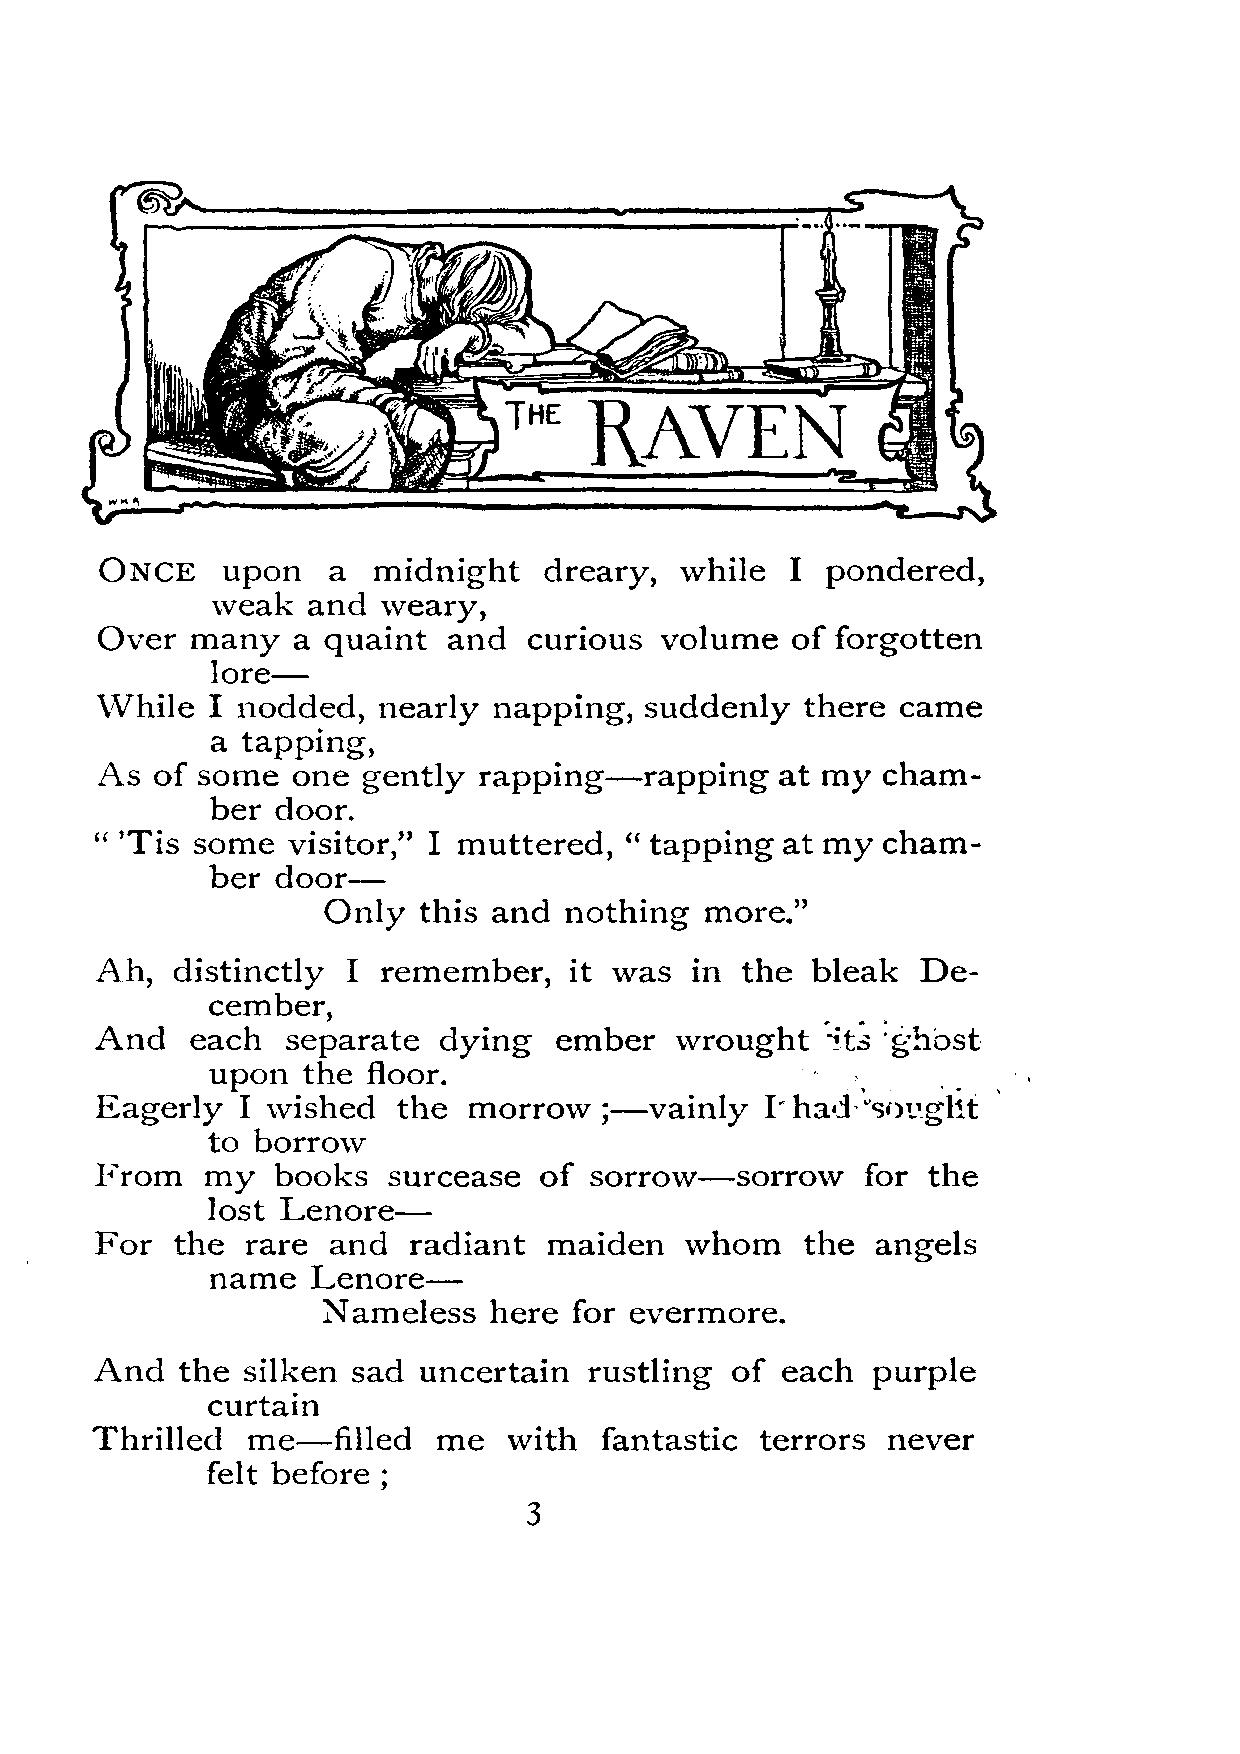content: (86, 169, 994, 1490)
content_pagenumber: (521, 1496, 548, 1531)
